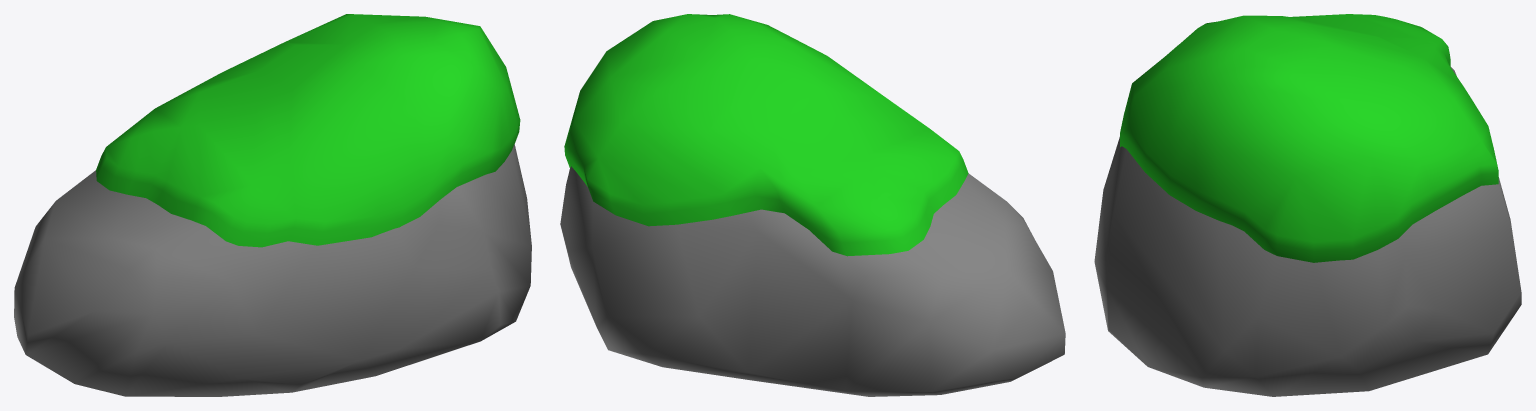
The model's file is stone6.fbx.
The picture shows the model from 3 angles, left to right: view 1: azimuth 30°, elevation 25°; view 2: azimuth 150°, elevation 25°; view 3: azimuth 270°, elevation 25°; orthographic projection. The views are drawn at different scales.
Parts seen in each view (by area): view 1: 6stone, 6moss; view 2: 6stone, 6moss; view 3: 6moss, 6stone.
Part boxes in pixels (left/top/right/bottom): 6stone: left=14, top=144, right=531, bottom=396; 6moss: left=96, top=14, right=520, bottom=247; 6stone: left=560, top=166, right=1065, bottom=396; 6moss: left=564, top=14, right=968, bottom=256; 6moss: left=1120, top=14, right=1498, bottom=262; 6stone: left=1094, top=67, right=1521, bottom=396.
Size of the model in its own units: 659 by 385 by 439.
